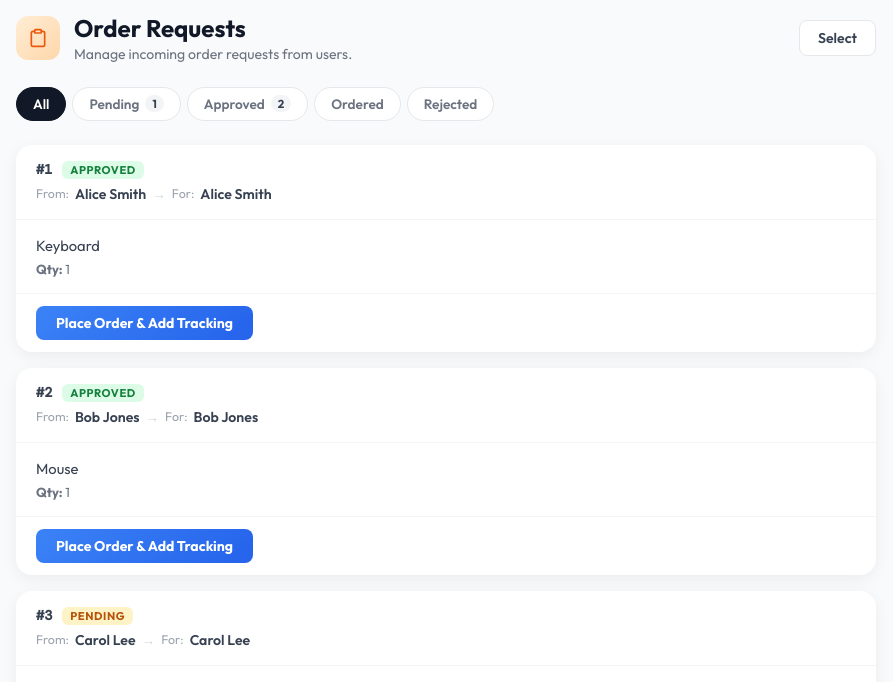
Test: Select mode › "Group N selected" button appears only after 2+ items are checked
Click the button "Select": (838, 38) [799,20,876,56]
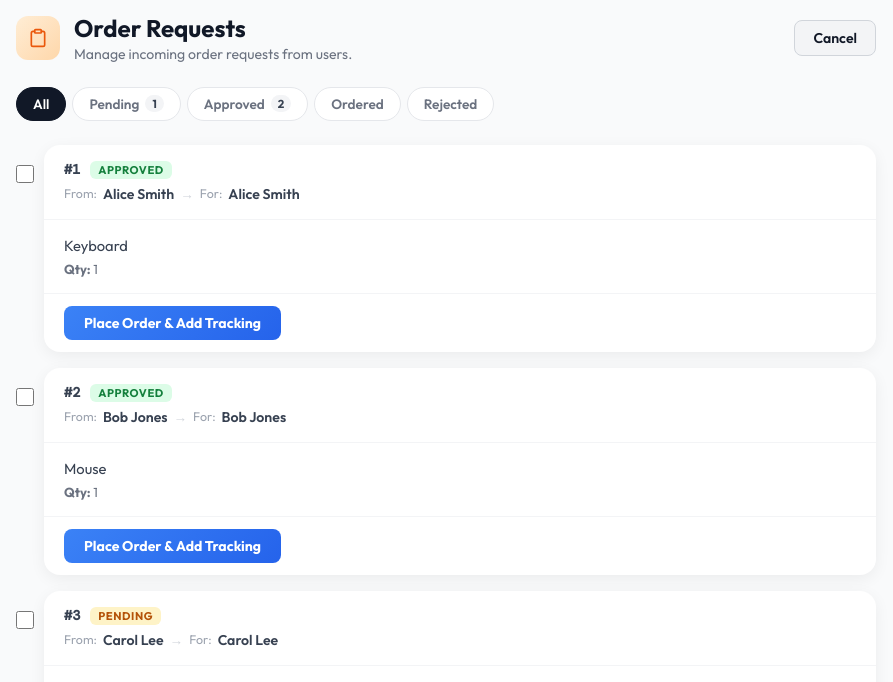
Expected: the button "group" is not shown
Click the 1st checkbox: (25, 174) [16,165,34,183]
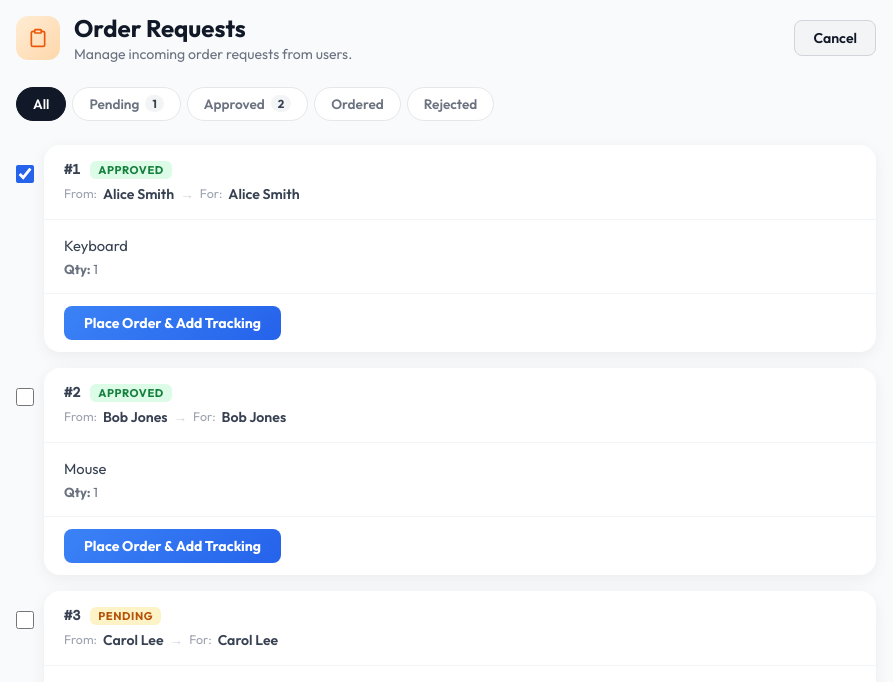
Expected: the button "group" is not shown
Click the 2nd checkbox: (25, 397) [16,388,34,406]
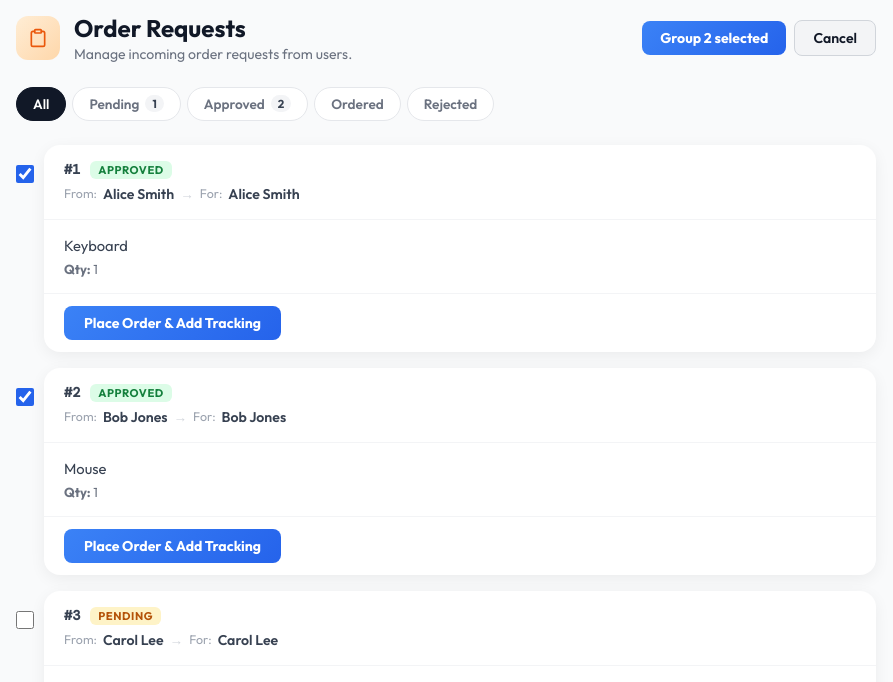
Expected: the button "Group 2 selected" is shown, [642,21,786,55]
